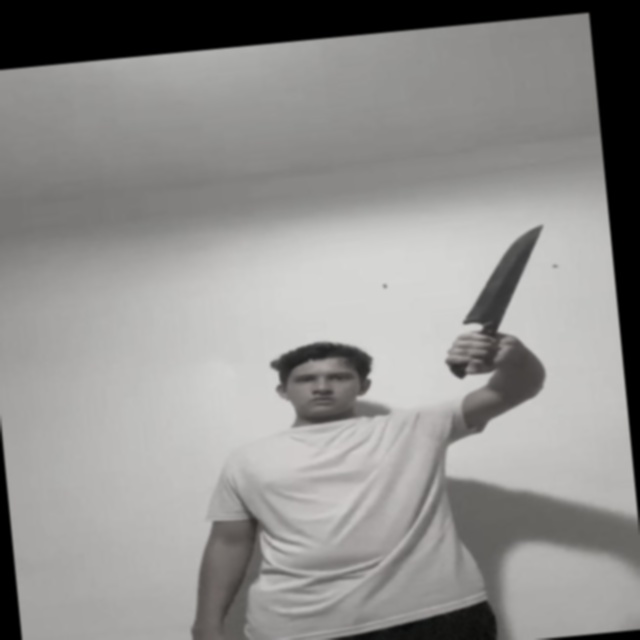Sharp-Object: (448, 224, 553, 327)
